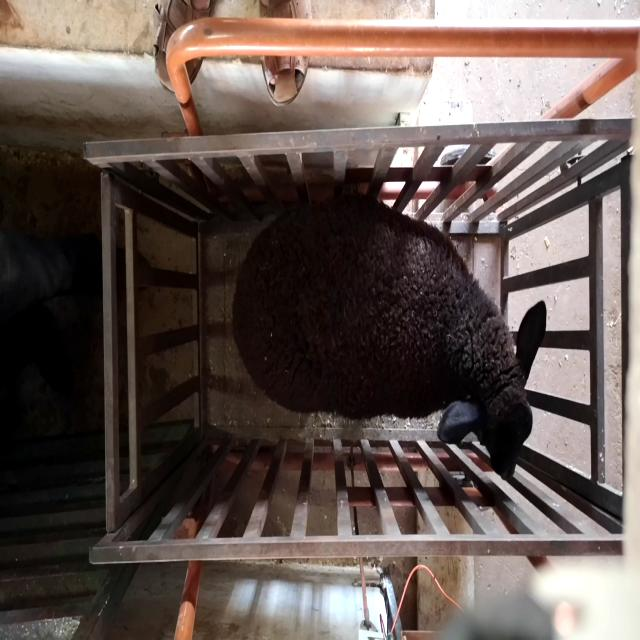sheep: (231, 193, 548, 480)
